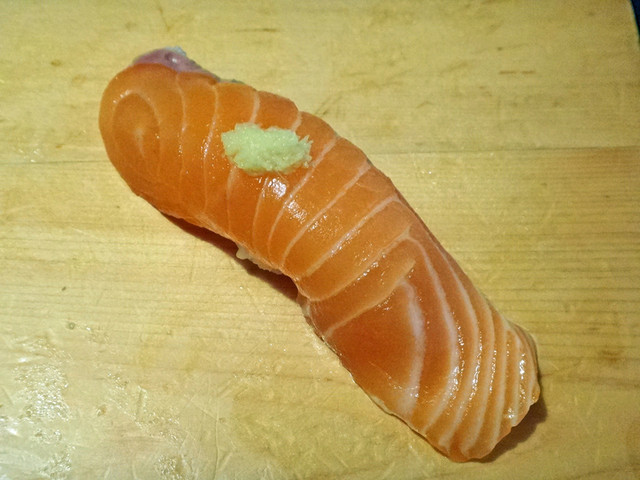salmon: (96, 40, 542, 465)
